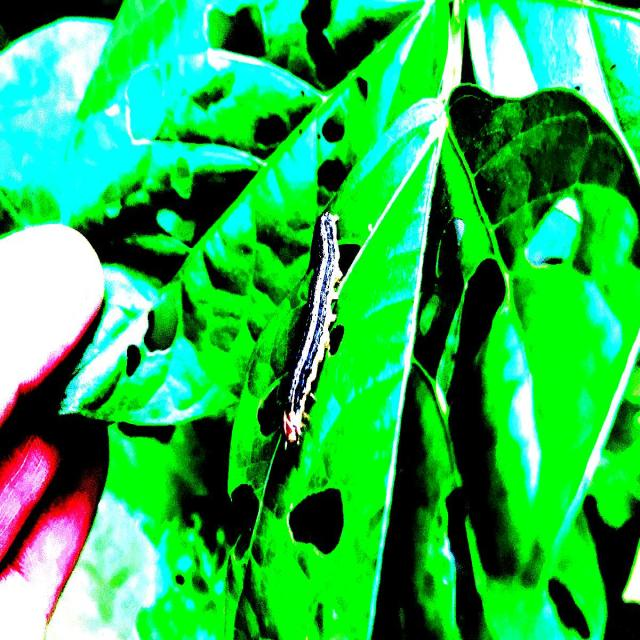Armyworm: (272, 202, 370, 463)
